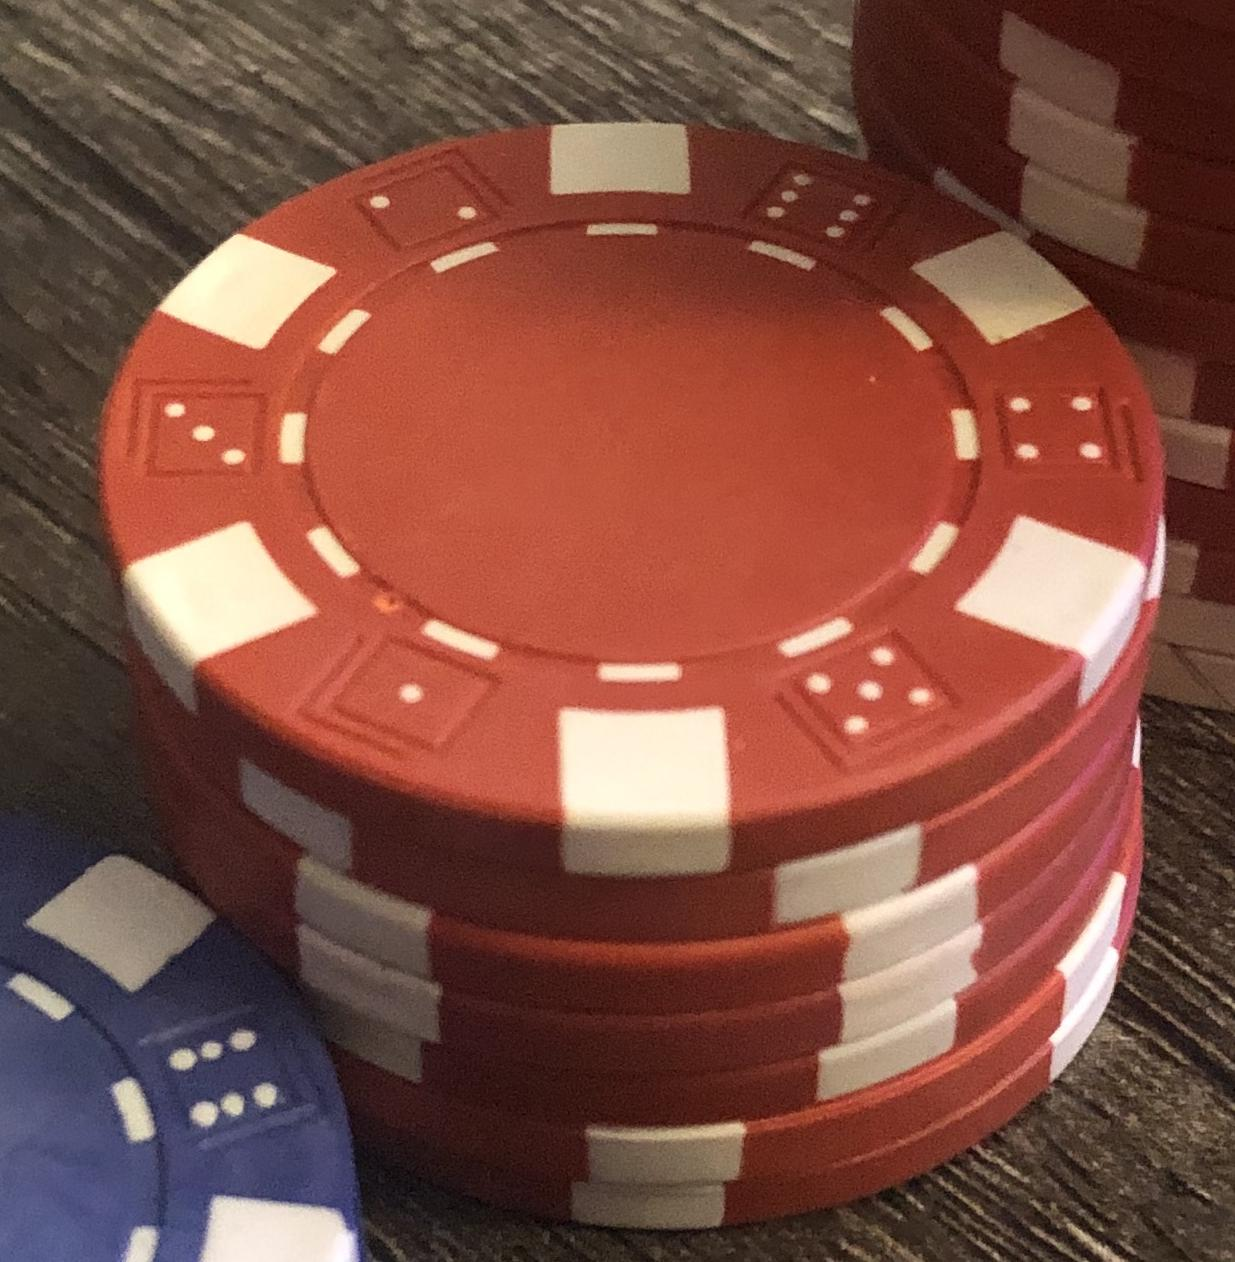Chip: (1, 1, 1235, 1262)
